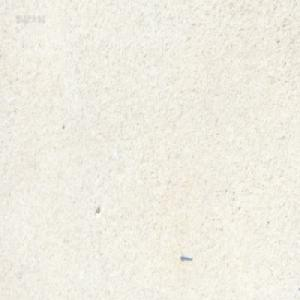Nail: (180, 253, 192, 261)
